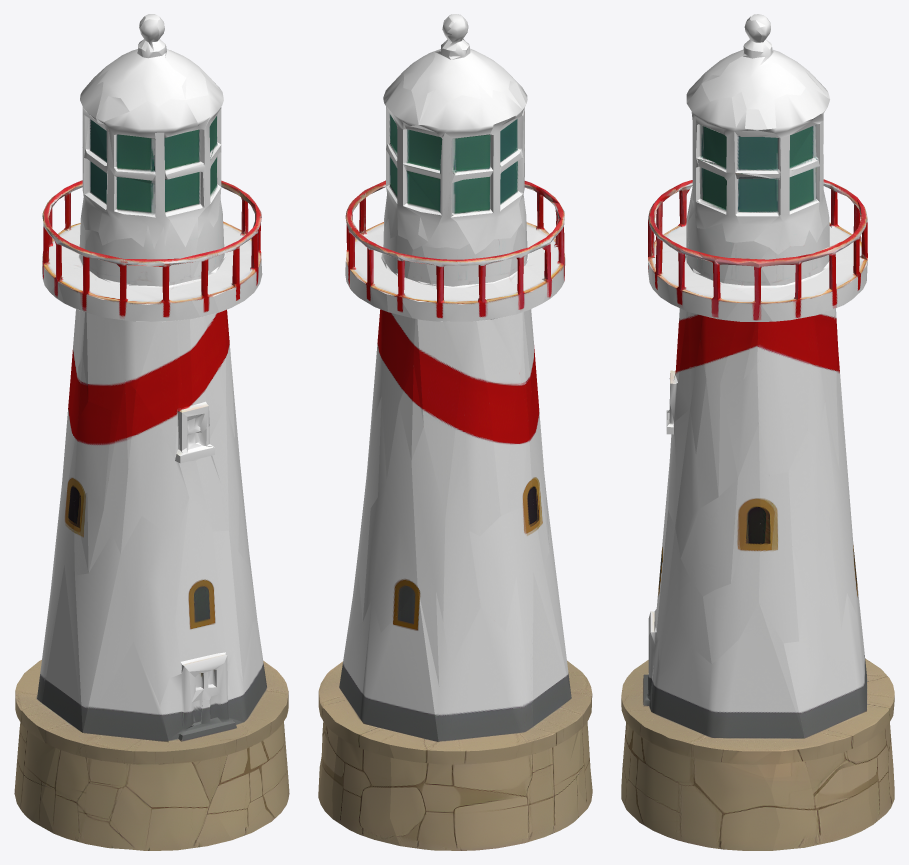
Rendered from lighthouse.glb.
3 views of the same model, side by side, from view 1: azimuth 30°, elevation 25°; view 2: azimuth 150°, elevation 25°; view 3: azimuth 270°, elevation 25° (orthographic).
Bounding box in the file's own units: 0.6065 × 1.9 × 0.6055.
Materials: 1 (1 with a texture image).
